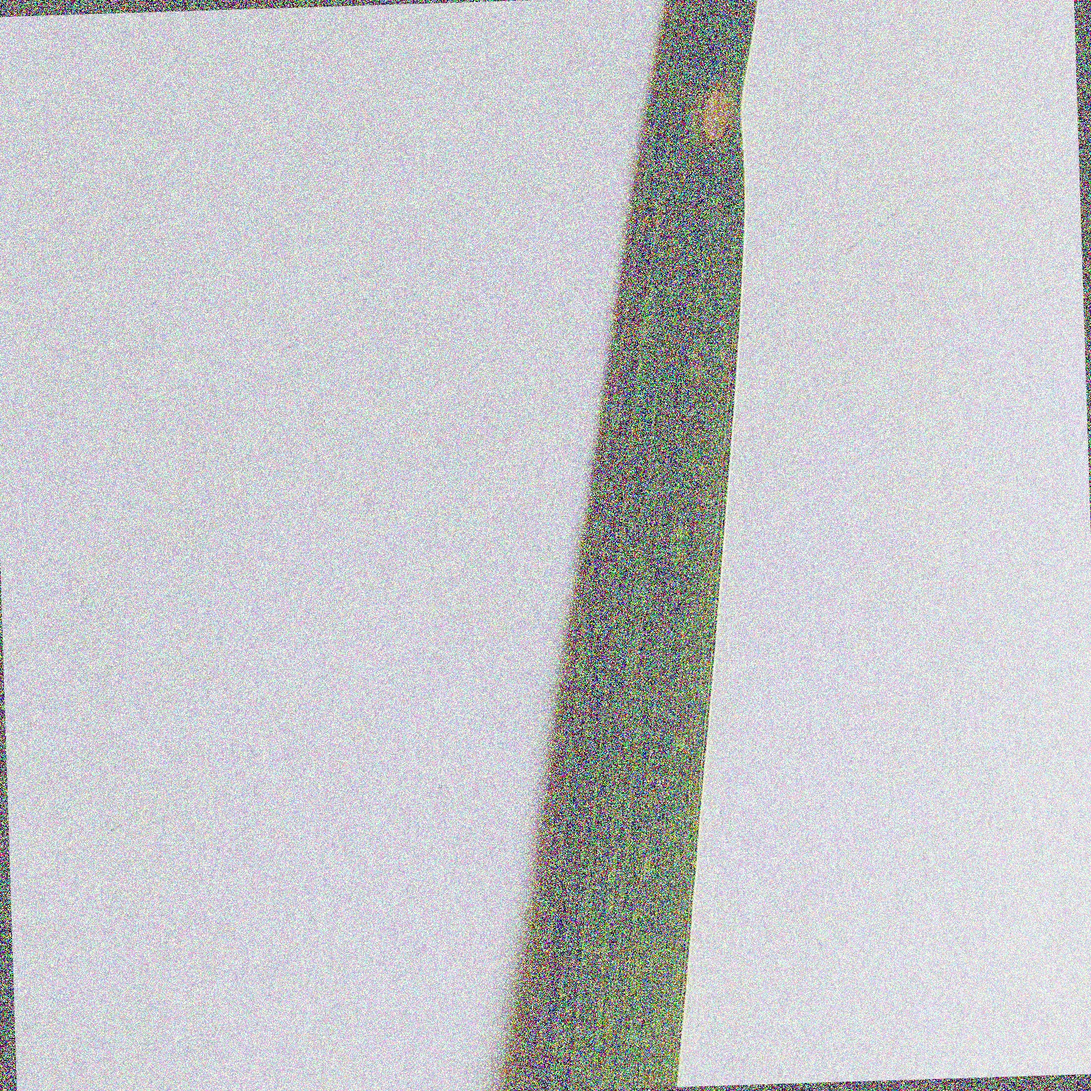Brown_Spot: (689, 57, 757, 148)
